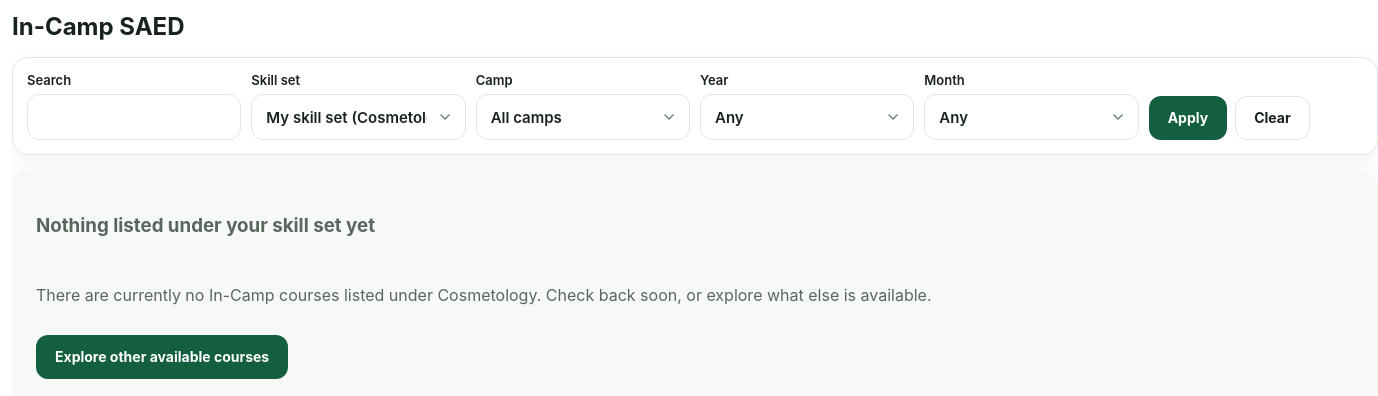
Scenario: nothing under my skill set: says so and lets the user explore others optionally
The width and height of the screenshot is (1378, 396).
Check: the heading "Nothing listed under your skill set yet" is shown, box [36,214,375,237]
Check: the text "Web Basics" is not shown
Click the button "Explore other available courses".
click(162, 357)  # box [36,335,288,379]
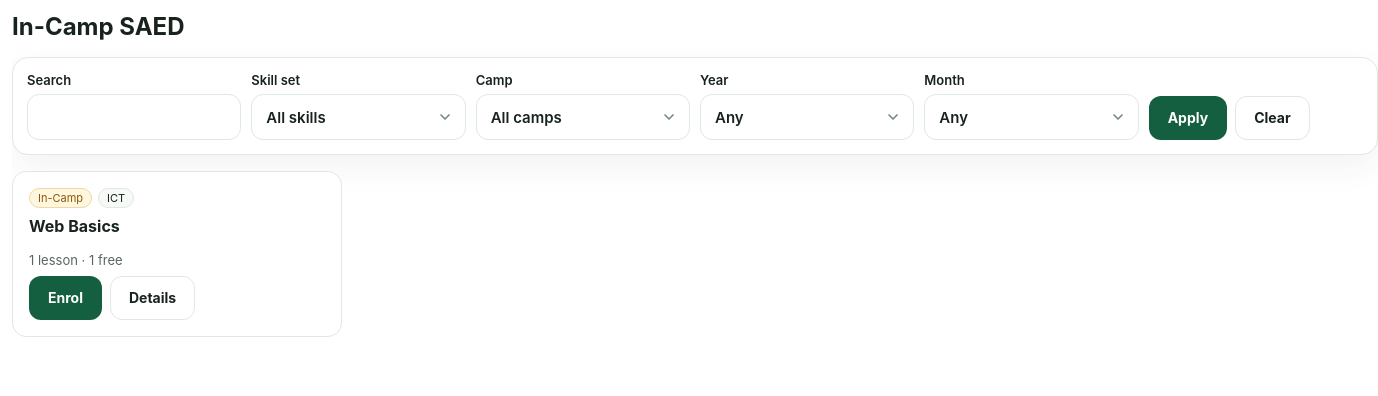
Check: the link "Web Basics" is shown, box [29,216,120,236]
